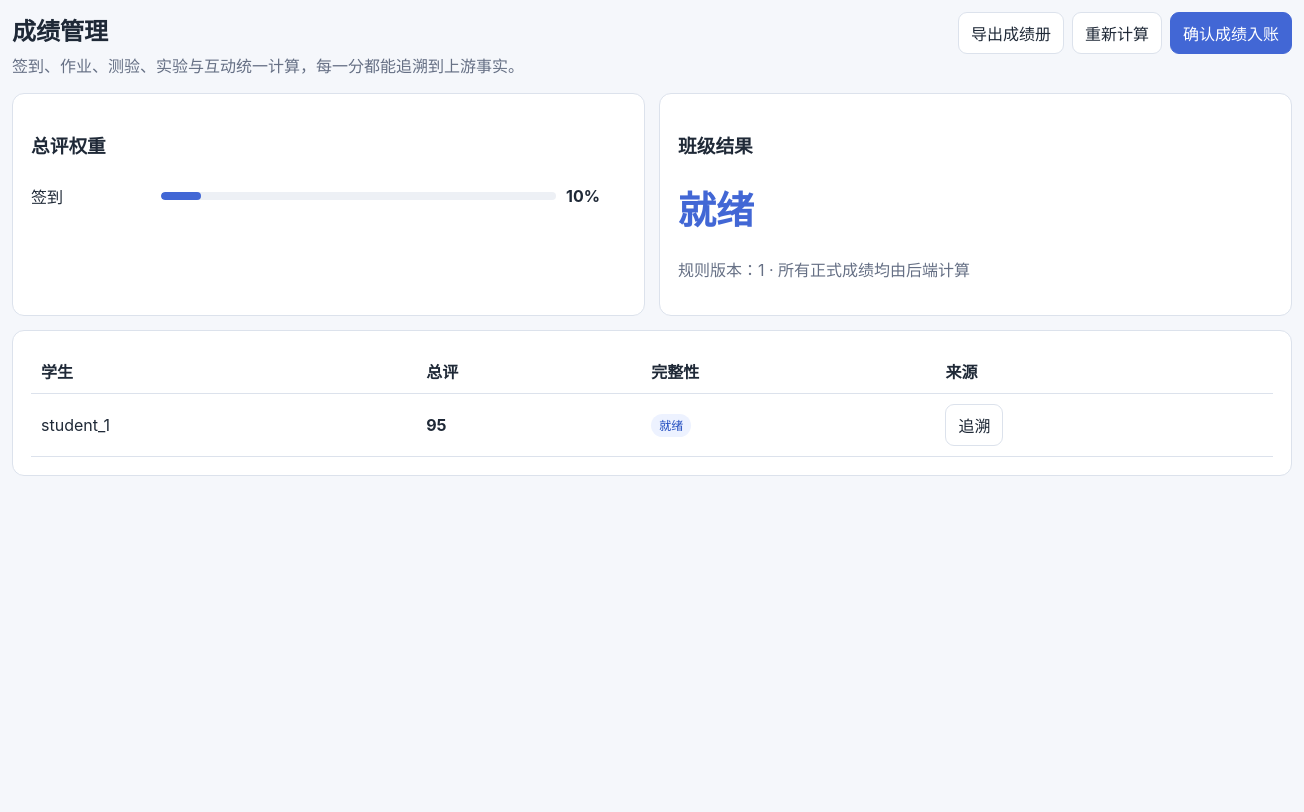
Test: 成绩追溯明确展示人工调整且不伪装为权重
Click the button "追溯" at (974, 425), box [946,404,1004,446]
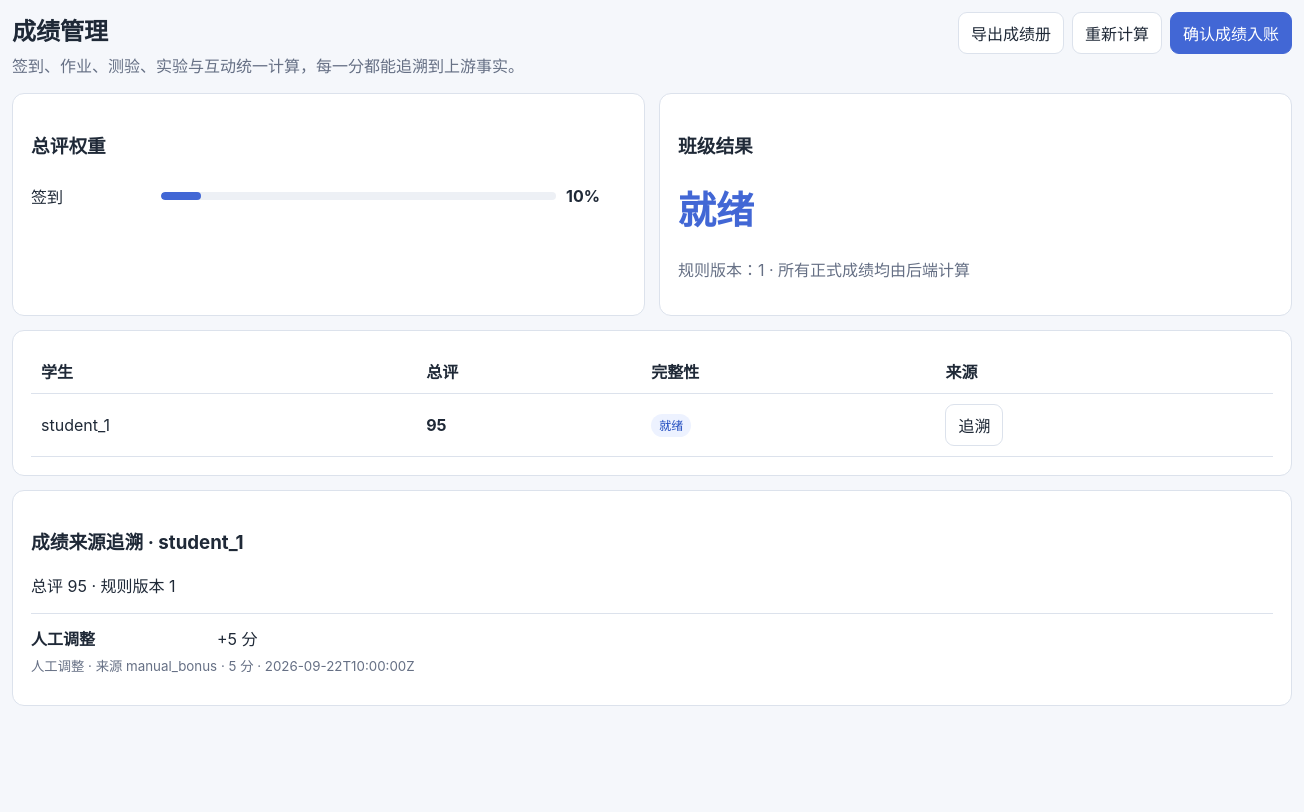
Check: the text "人工调整" is shown, box [31,629,95,649]
Check: the text "+5 分" is shown, box [217,629,258,649]
